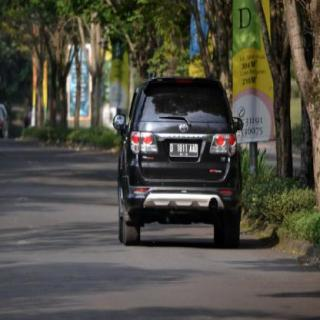Normal_vehicle: (114, 73, 243, 247)
